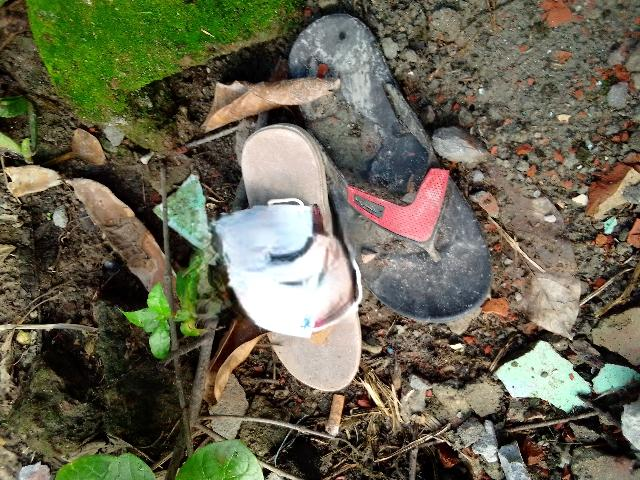sandal: (249, 1, 514, 364), (233, 117, 370, 400)
